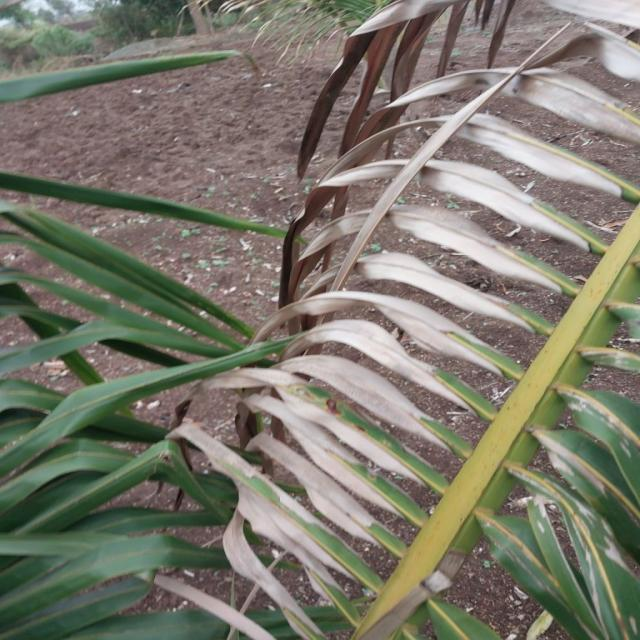gray leaf spot: (220, 5, 636, 593)
